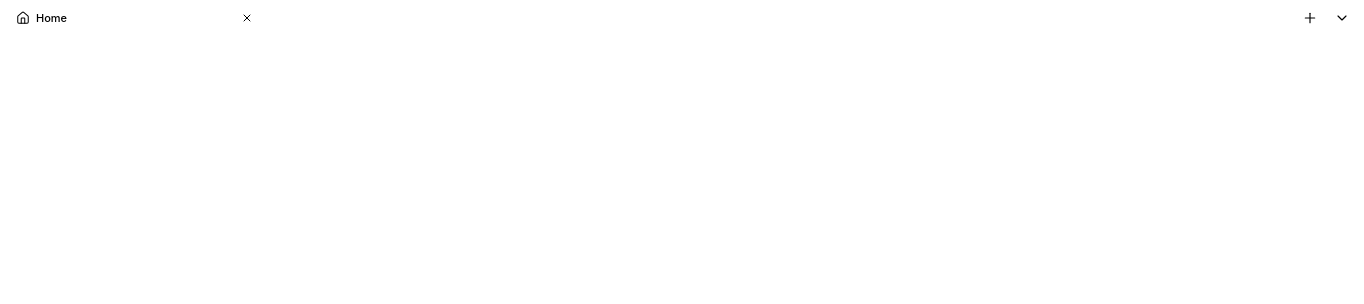
Scenario: TabStrip › 'Reopen closed tab' is disabled when the ring is empty
Right-click the tab "Home".
right_click(52, 18)  # box left=16, top=9, right=256, bottom=27
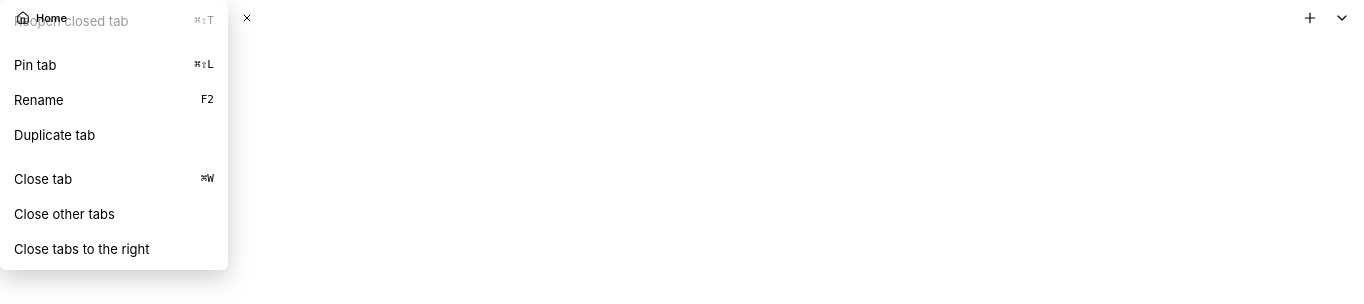
Check: the menu item "Reopen closed tab ⌘⇧T" is disabled, box left=4, top=4, right=224, bottom=38
